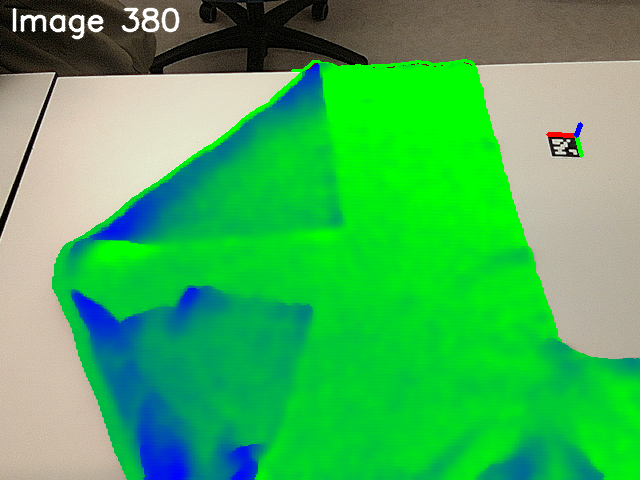V: (277, 177, 357, 240), (256, 284, 326, 356)
